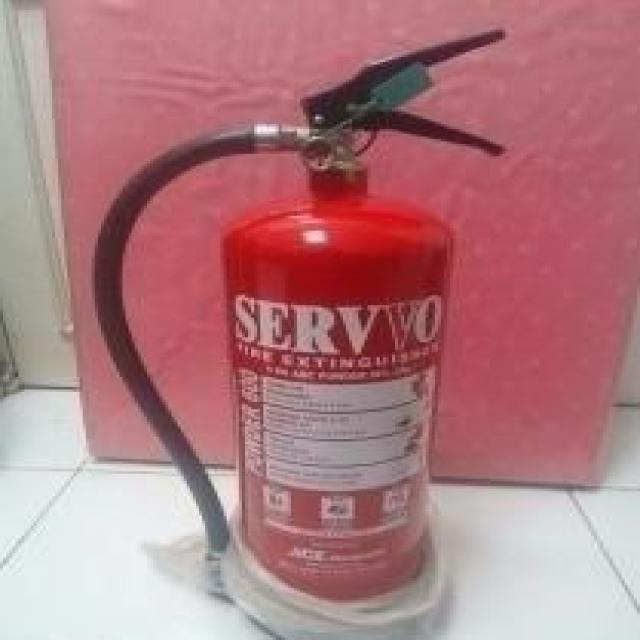fire_extinguisher: (84, 22, 516, 638)
